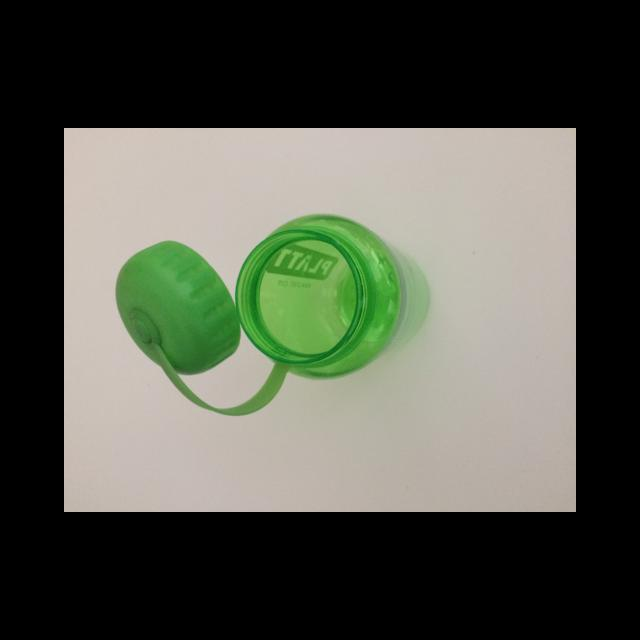plastic: (114, 217, 375, 415), (235, 213, 430, 381)
